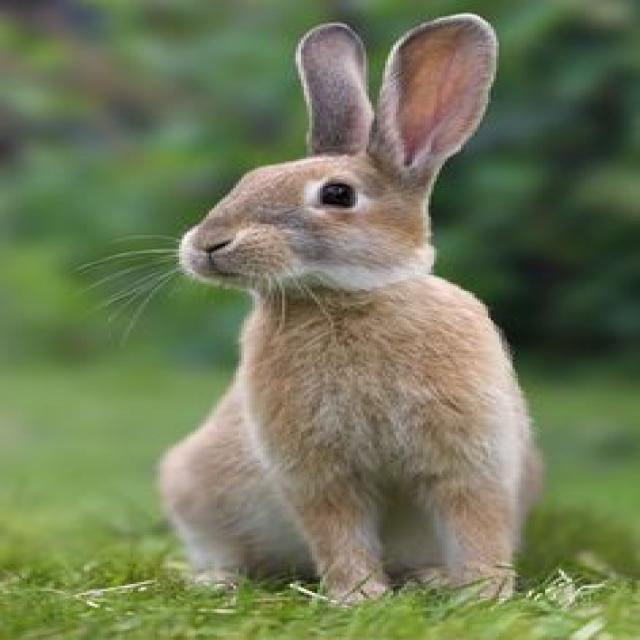Herbivorous: (155, 14, 545, 609)
